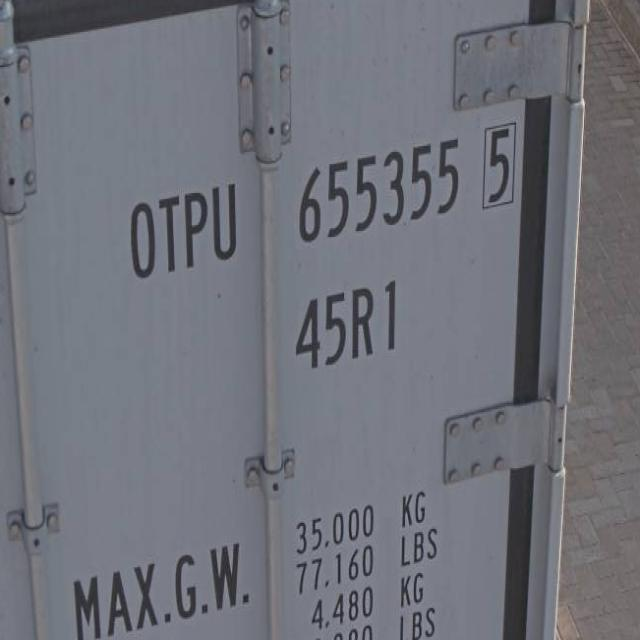dv: (476, 112, 518, 216)
owner: (122, 166, 242, 286)
serial: (293, 126, 462, 252)
size: (288, 271, 409, 381)
